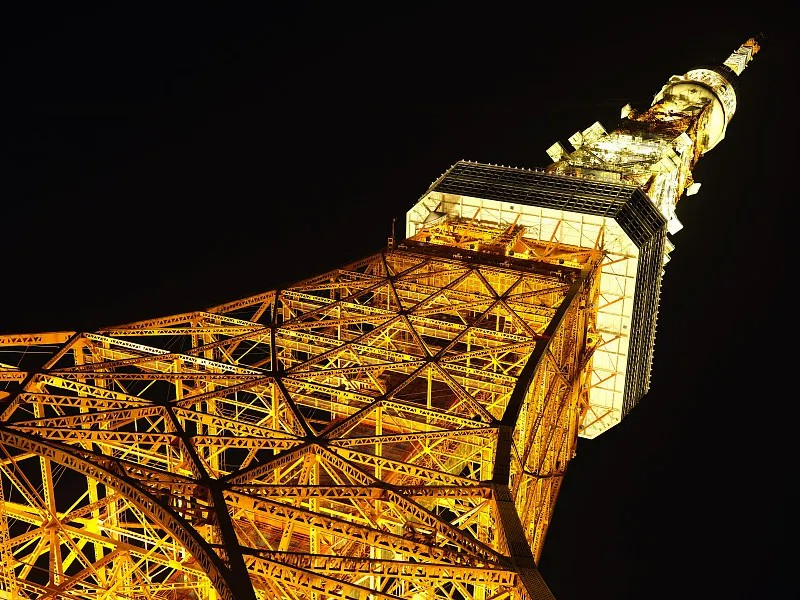Tokyo: (1, 29, 770, 600)
